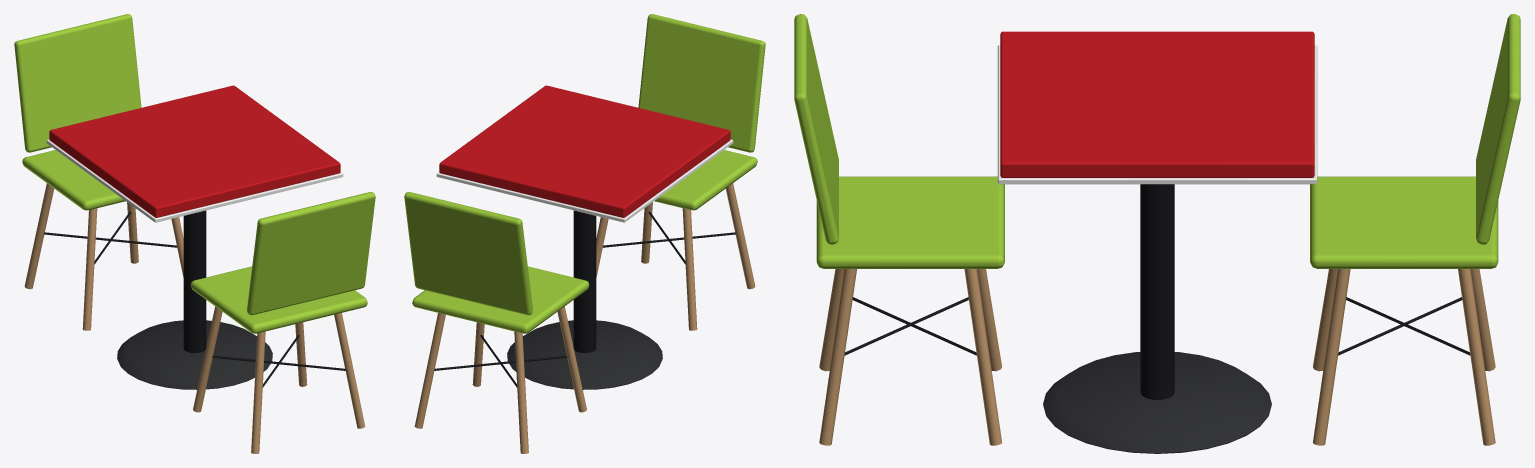
The model's file is table-2.glb.
3 views of the same model, side by side, from view 1: azimuth 30°, elevation 25°; view 2: azimuth 150°, elevation 25°; view 3: azimuth 270°, elevation 25° (orthographic). The views are drawn at different scales.
Visible parts, largest first — view 1: BODY; view 2: BODY; view 3: BODY.
Boxes of the visible parts, left/top/right/bottom form: BODY: left=14, top=14, right=375, bottom=453; BODY: left=404, top=14, right=765, bottom=453; BODY: left=794, top=14, right=1520, bottom=453.
Bounding box in the file's own units: 0.7121 × 0.8693 × 1.62.
